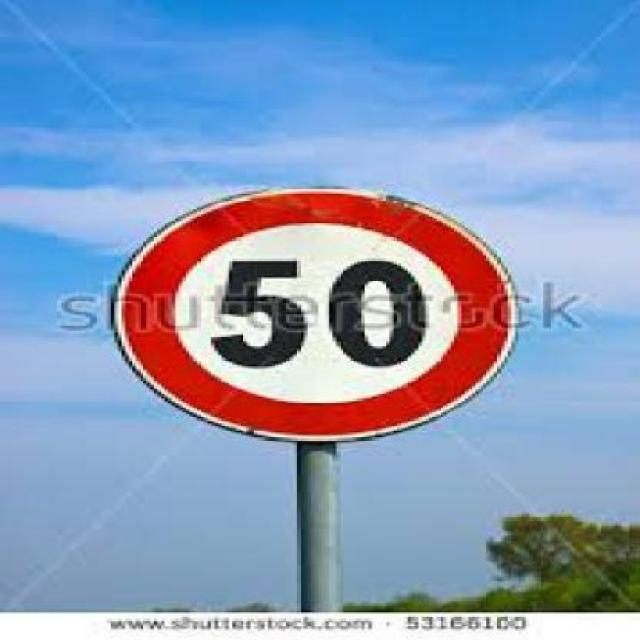forb_speed_over_50: (118, 191, 516, 440)
